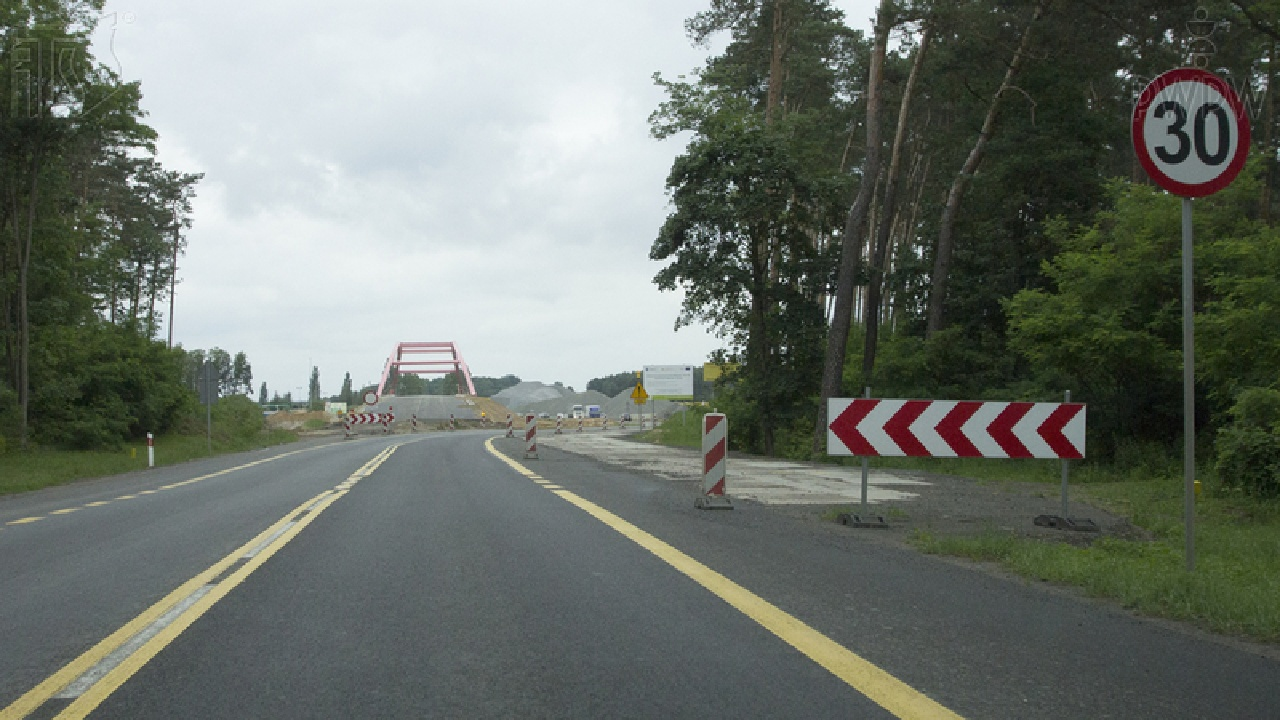B33_30: (1130, 67, 1249, 198)
